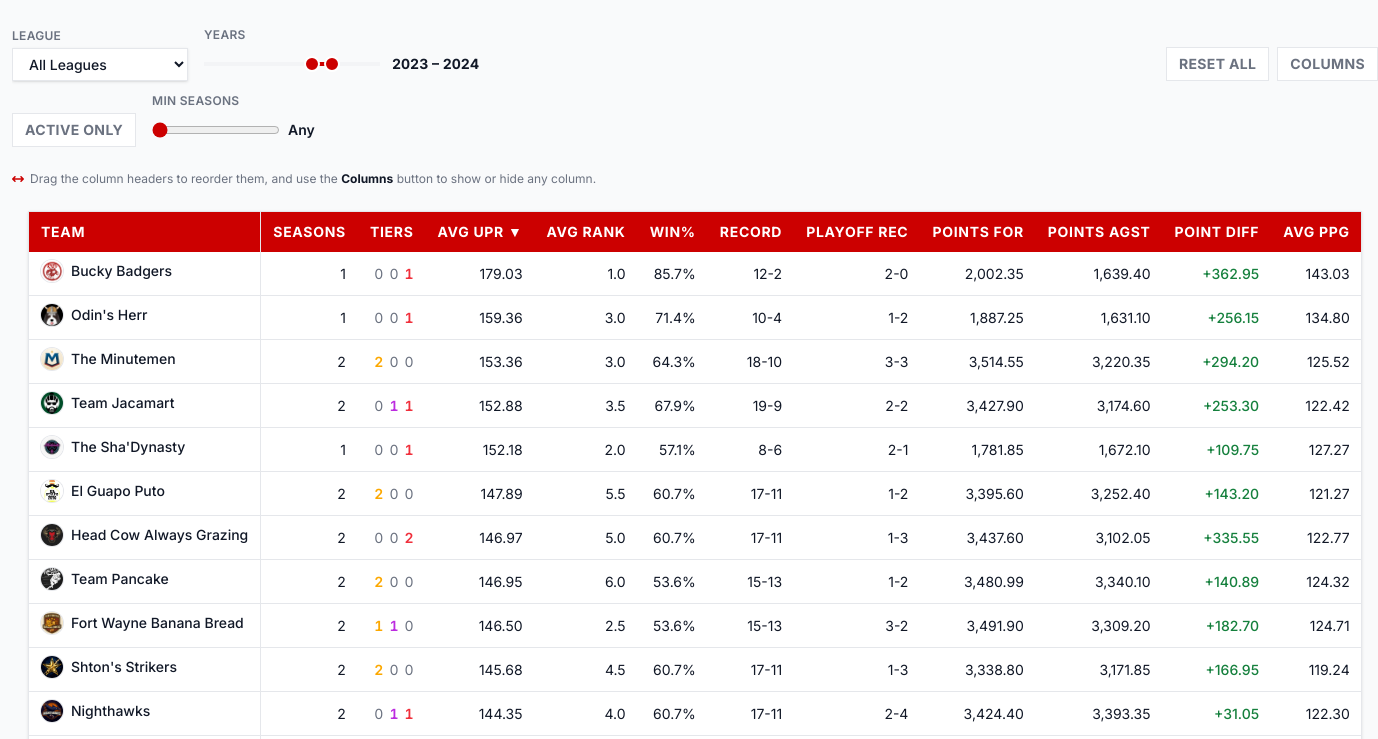
it: limits every stat to a span of years, and Reset all restores the full span
Step 1. Click the button "Reset all" → (1218, 64), box [1166,47,1269,81]
(page scrolled)
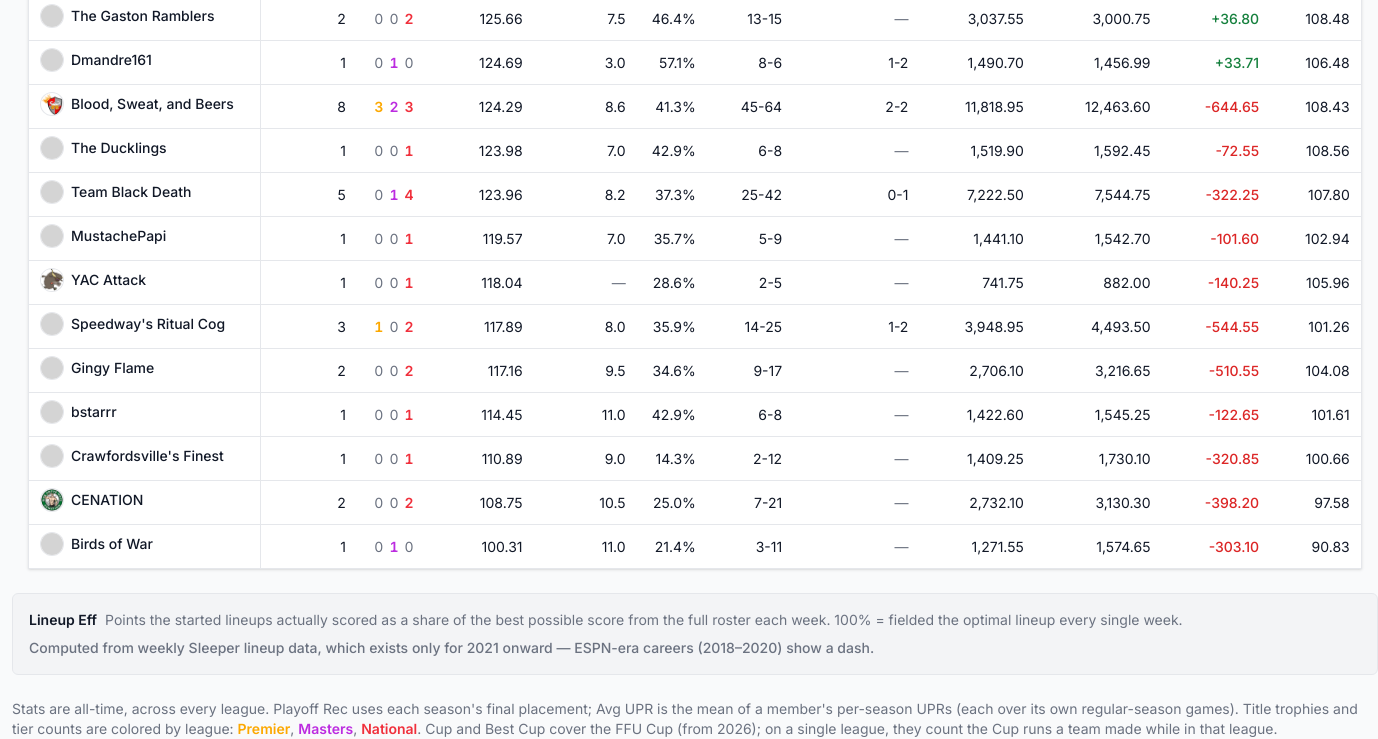
Now the text "Stats are all-time, across every league" is shown, box [12,699,1377,738]
